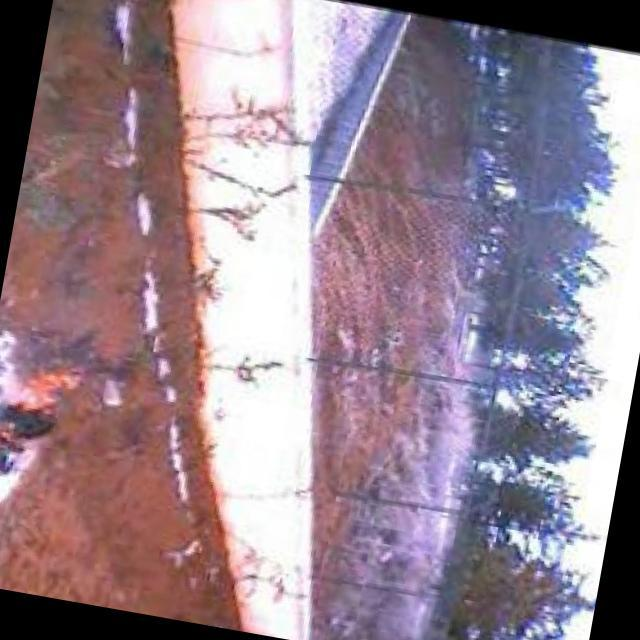Fire: (1, 356, 91, 483)
